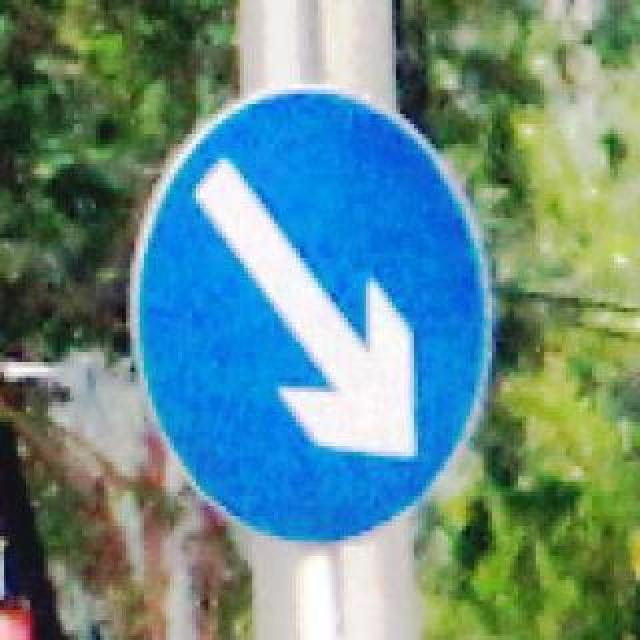keep right: (118, 74, 498, 546)
